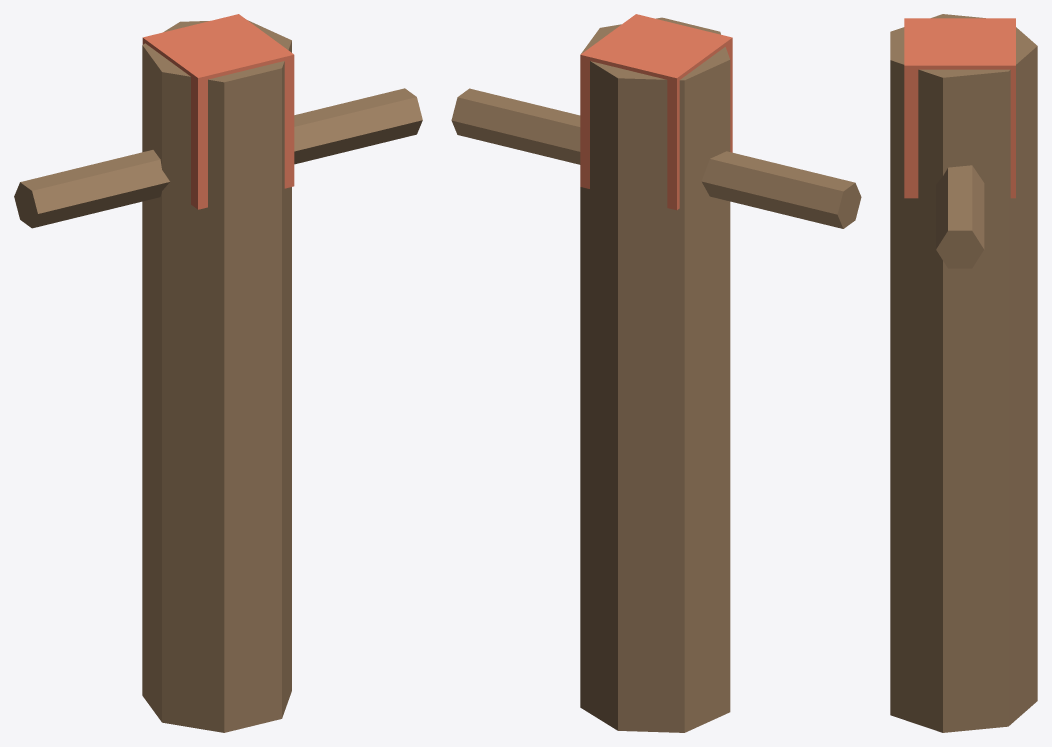
File: tribal_totem.glb
The picture shows the model from 3 angles, left to right: view 1: azimuth 30°, elevation 25°; view 2: azimuth 150°, elevation 25°; view 3: azimuth 270°, elevation 25°; orthographic projection.
Visible parts, largest first — view 1: TribalTotem; view 2: TribalTotem; view 3: TribalTotem.
Part boxes in pixels (x1,y1,x2,y2): TribalTotem: [14, 14, 422, 732]; TribalTotem: [451, 14, 861, 732]; TribalTotem: [890, 14, 1037, 732].
Size of the model in its own units: 2.6 by 4.22 by 0.8554.
